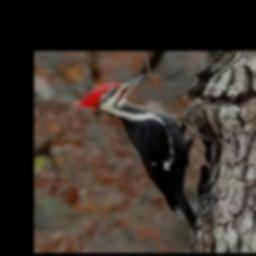Woodpecker: (75, 73, 198, 240)
